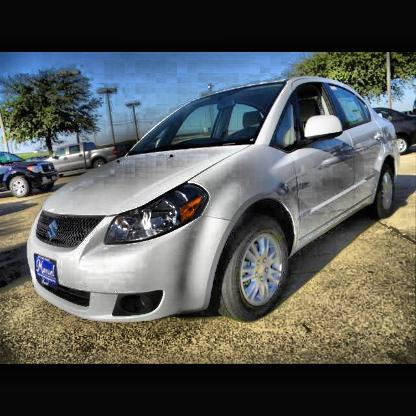Suzuki SX4 Sedan 2012: (28, 77, 400, 323)
